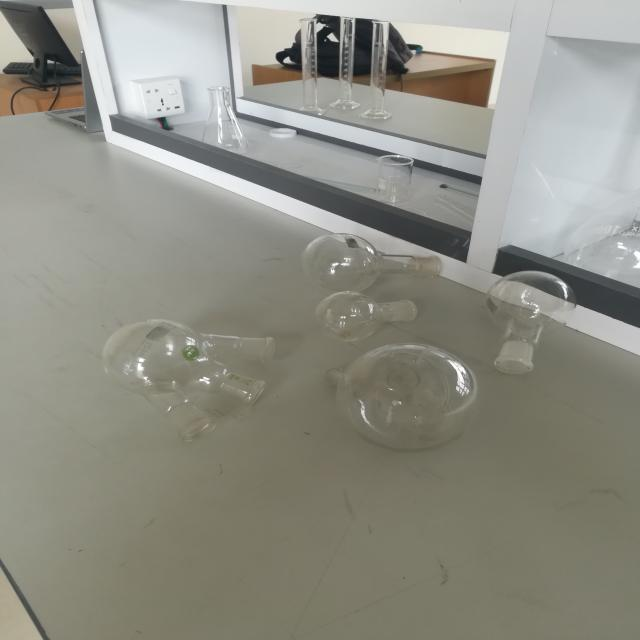Round_Bottom_Flask_Borosilicate_Glass_1_Neck: (469, 239, 592, 384), (289, 215, 454, 301), (297, 262, 449, 340)
Round_Bottom_Flask_Borosilicate_Glass_2_Neck: (302, 338, 500, 460)
Round_Bottom_Flask_Borosilicate_Glass_3_Neck: (84, 305, 290, 455)
